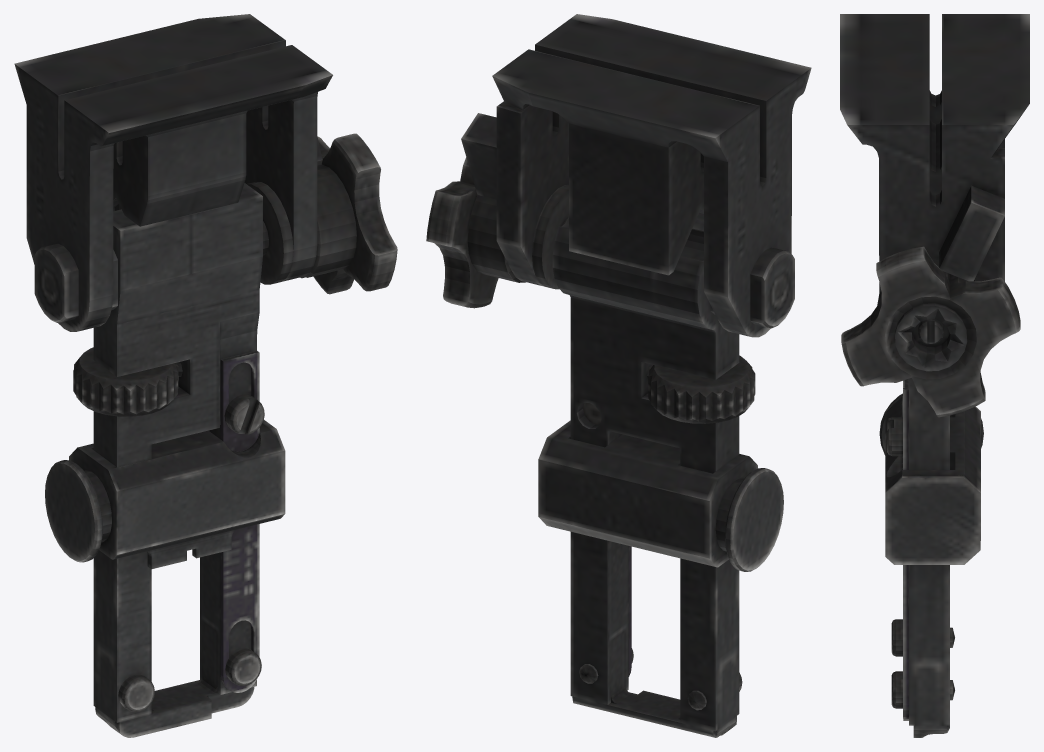
3 views of the same model, side by side, from view 1: azimuth 30°, elevation 25°; view 2: azimuth 150°, elevation 25°; view 3: azimuth 270°, elevation 25° (orthographic).
Visible parts, largest first — view 1: TW_6601265f98a610c1aa0ea637_PZ_Import; view 2: TW_6601265f98a610c1aa0ea637_PZ_Import; view 3: TW_6601265f98a610c1aa0ea637_PZ_Import.
Boxes of the visible parts, left/top/right/bottom form: TW_6601265f98a610c1aa0ea637_PZ_Import: left=14, top=14, right=397, bottom=737; TW_6601265f98a610c1aa0ea637_PZ_Import: left=426, top=14, right=811, bottom=737; TW_6601265f98a610c1aa0ea637_PZ_Import: left=840, top=14, right=1029, bottom=737.
Bounding box in the file's own units: 0.0253 × 0.0136 × 0.0506.
1 material, 1 textured.
